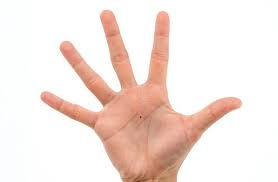palm: (37, 8, 245, 182)
